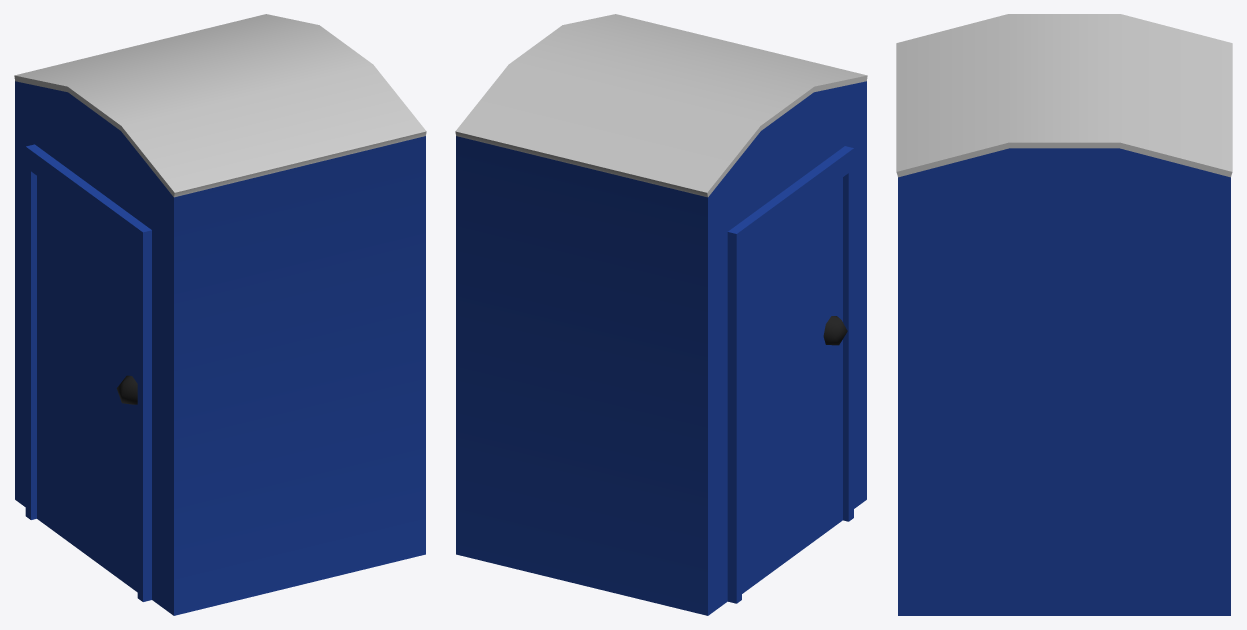
The model's file is PortaPotty.fbx.
3 views of the same model, side by side, from view 1: azimuth 30°, elevation 25°; view 2: azimuth 150°, elevation 25°; view 3: azimuth 270°, elevation 25° (orthographic). The views are drawn at different scales.
Parts seen in each view (by area): view 1: PortaPotty; view 2: PortaPotty; view 3: PortaPotty.
Part boxes in pixels (x1,y1,x2,y2): PortaPotty: [14, 14, 426, 615]; PortaPotty: [455, 14, 867, 615]; PortaPotty: [896, 14, 1232, 615].
Size of the model in its own units: 161 by 259 by 167.
